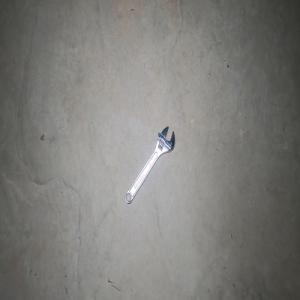Wrench: (124, 126, 175, 204)
